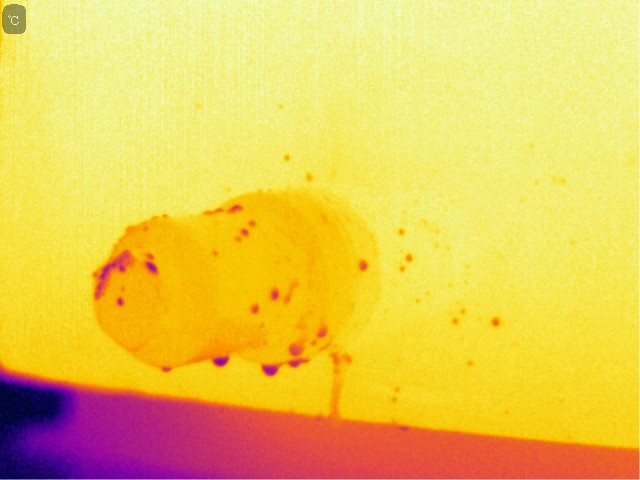Water: (326, 351, 354, 417), (141, 249, 169, 281), (253, 357, 282, 381), (313, 322, 340, 341), (209, 349, 234, 369), (264, 280, 284, 301), (354, 255, 375, 275), (285, 357, 314, 371), (289, 340, 308, 358), (247, 301, 266, 319), (404, 248, 420, 268), (202, 207, 225, 218), (224, 204, 251, 213), (149, 212, 171, 223), (114, 293, 128, 310), (247, 217, 262, 232), (226, 233, 243, 246), (490, 312, 500, 334), (237, 228, 254, 239), (161, 363, 175, 374)
